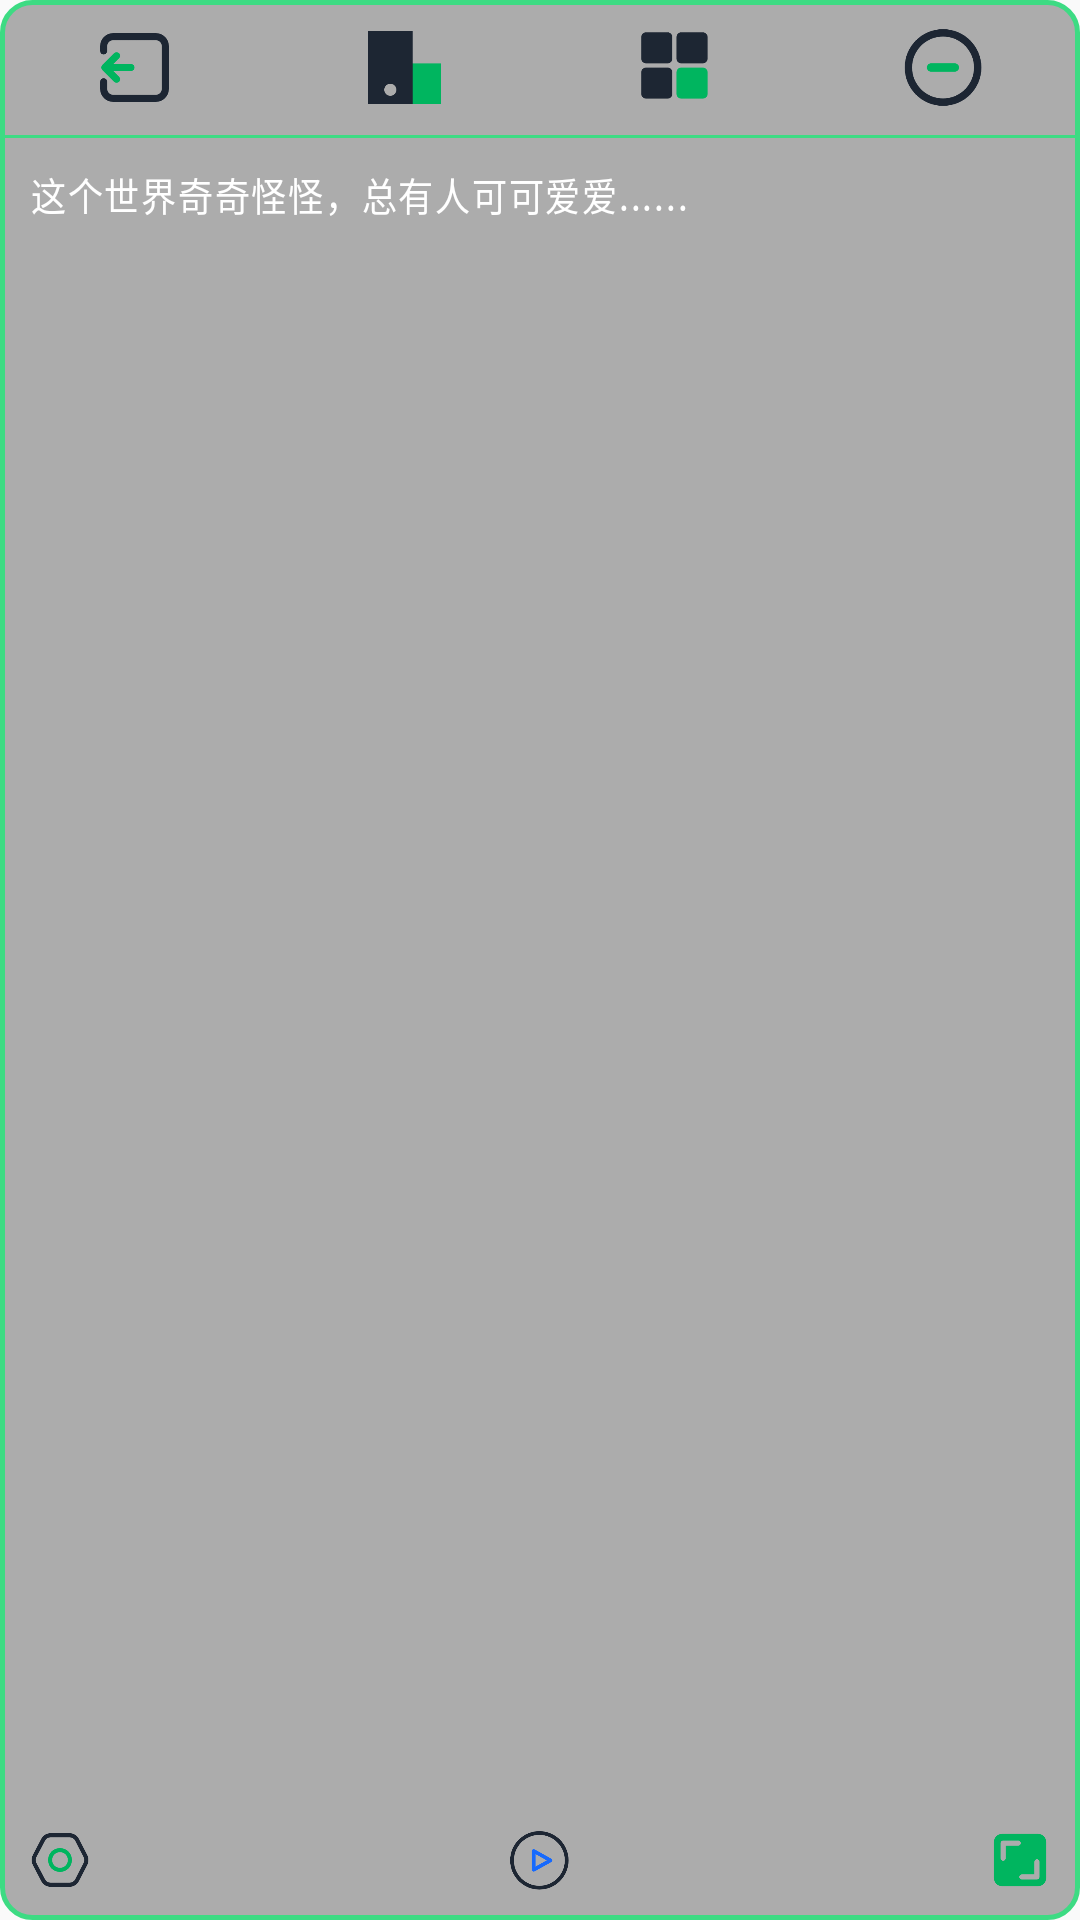

Point at icon controls on the screen. Image size 1080px×1920px, points as (x=x, y=y).
menu: (x=674, y=65)
set: (x=60, y=1860)
